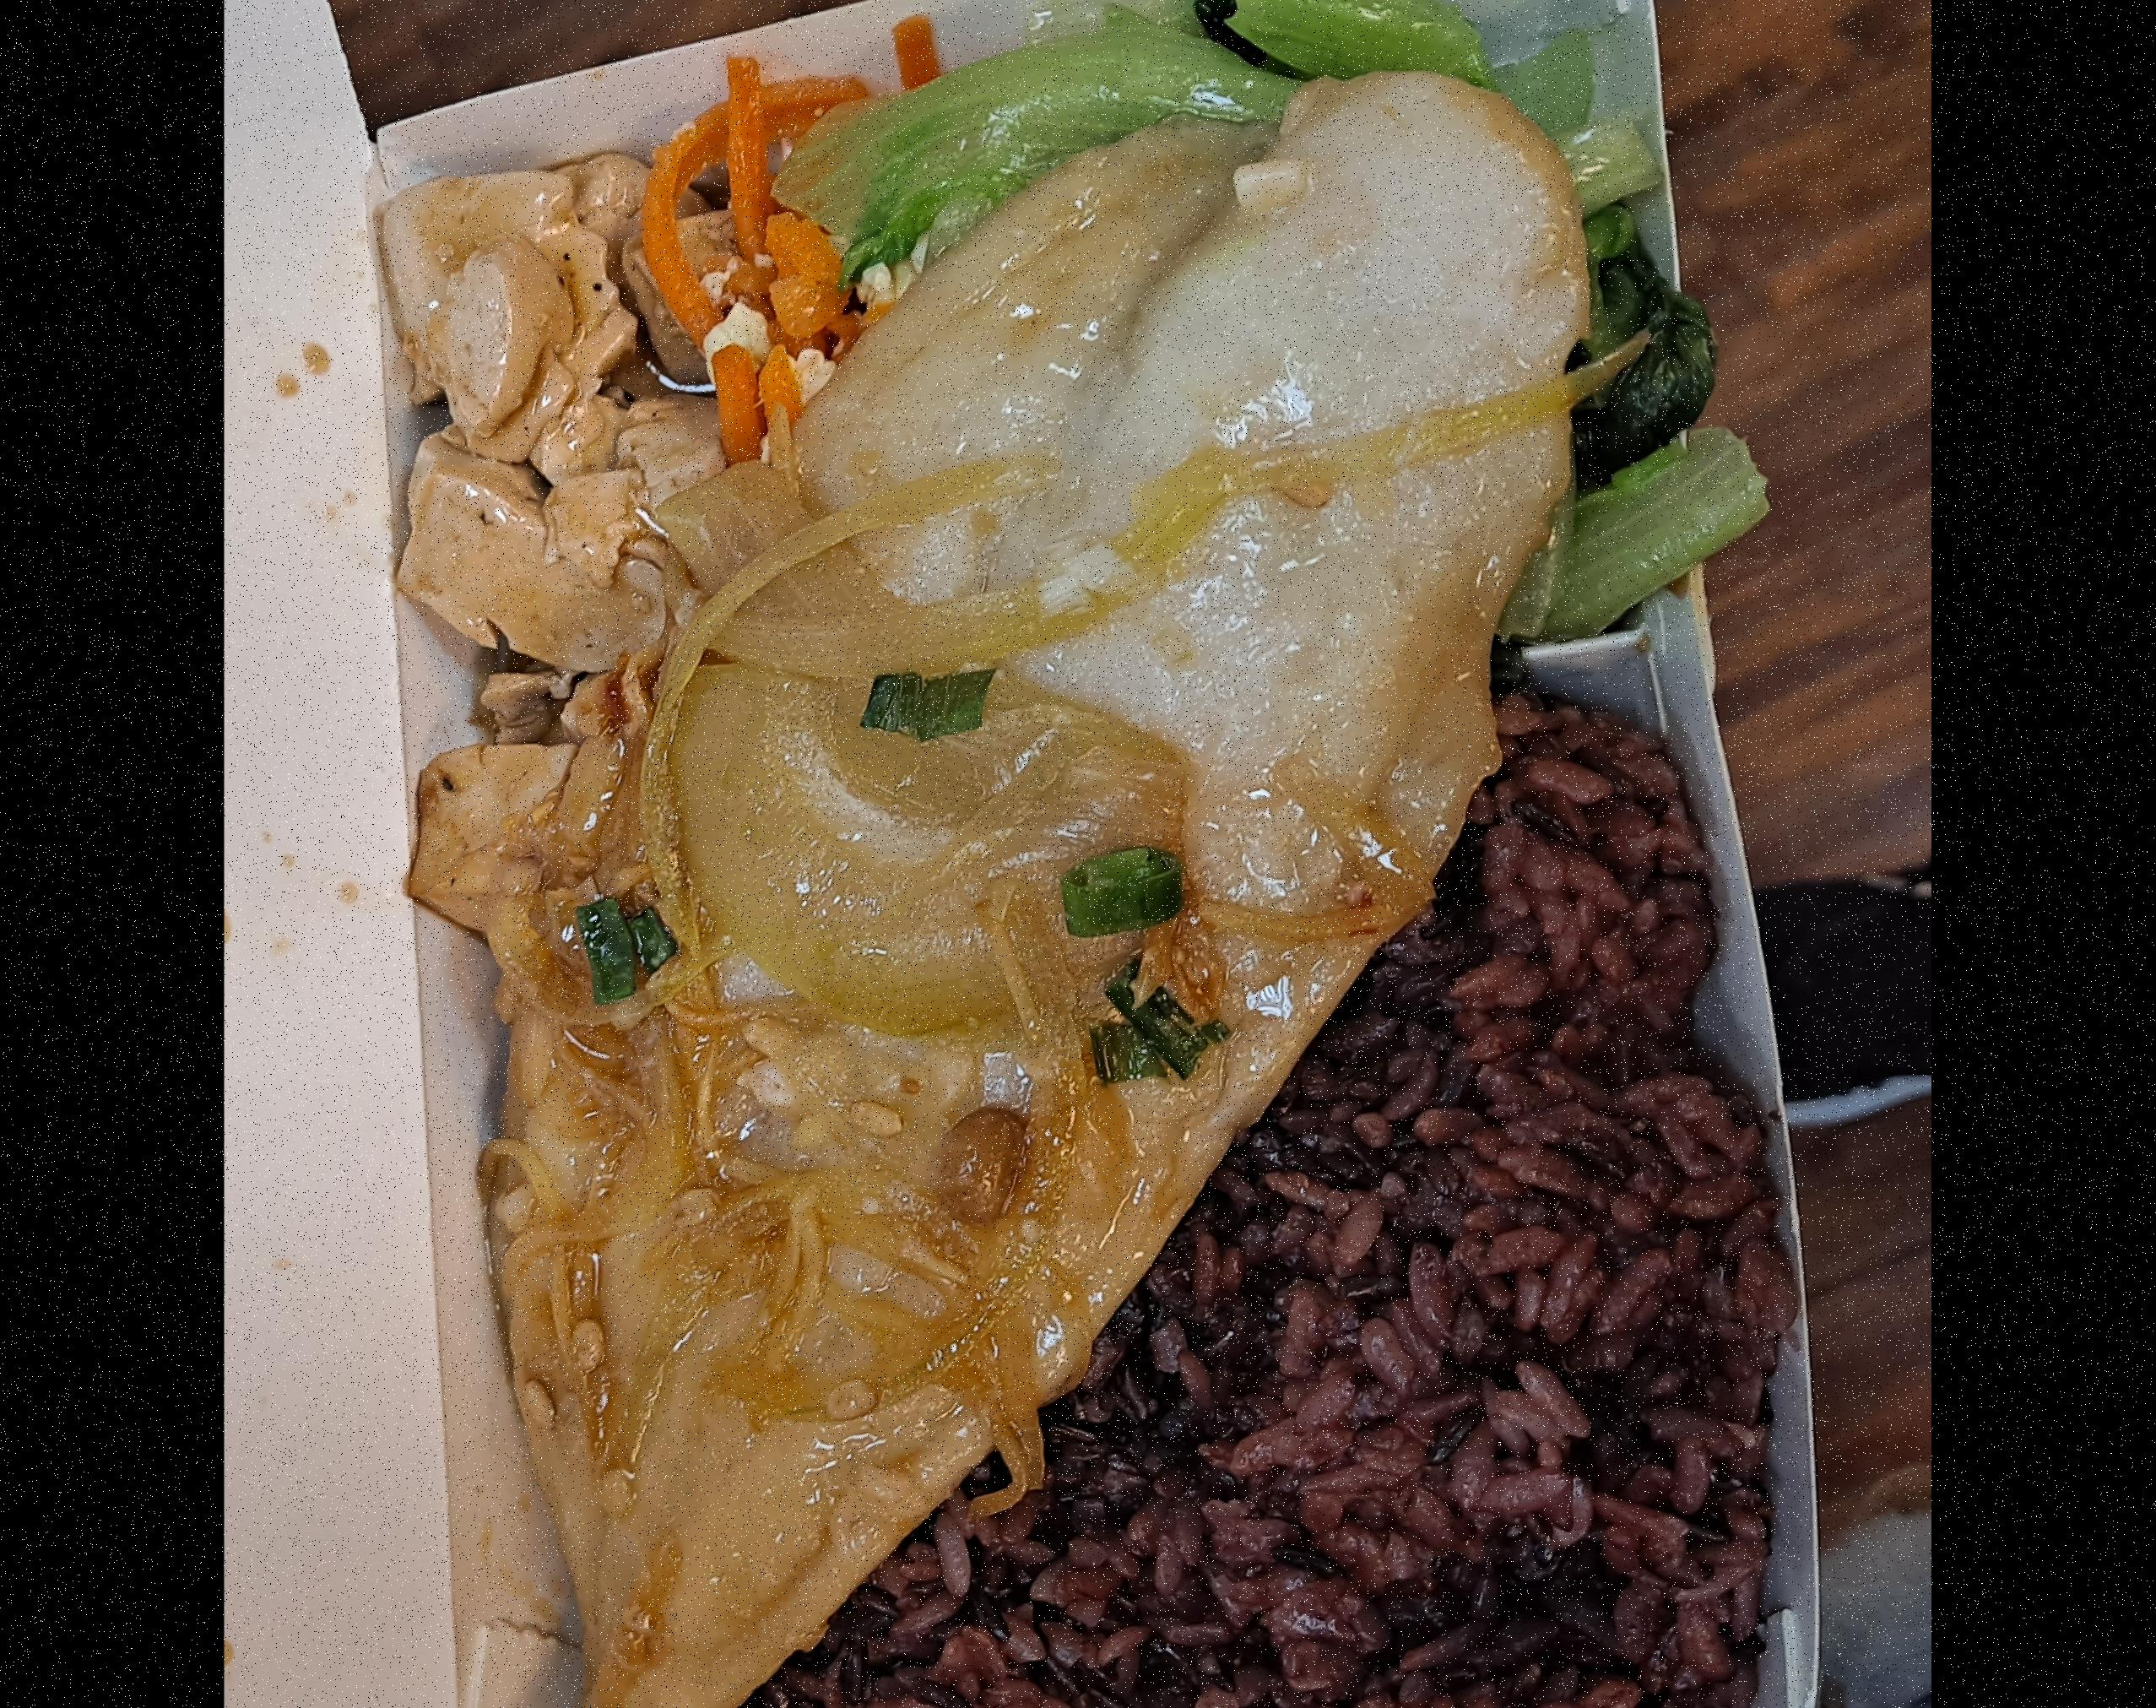purple rice: (716, 1151, 1801, 1708)
side dish: (896, 374, 1753, 1083), (457, 642, 772, 1430), (724, 555, 947, 901)
steamed fish fillet: (567, 556, 1659, 1708)
